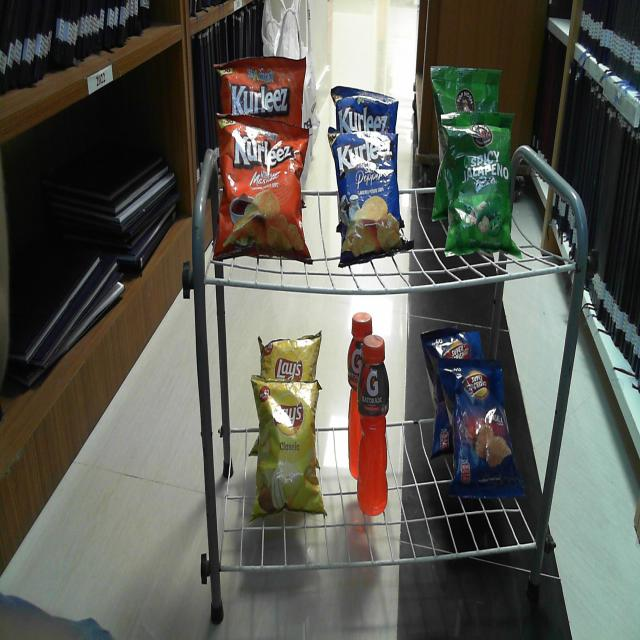Plastic: (214, 128, 310, 261), (328, 131, 404, 261), (442, 123, 516, 256), (254, 384, 326, 520), (445, 372, 522, 498), (214, 52, 304, 126), (360, 336, 389, 509), (430, 64, 500, 118), (332, 82, 400, 130), (258, 330, 320, 380), (422, 324, 484, 368), (346, 312, 358, 482)
